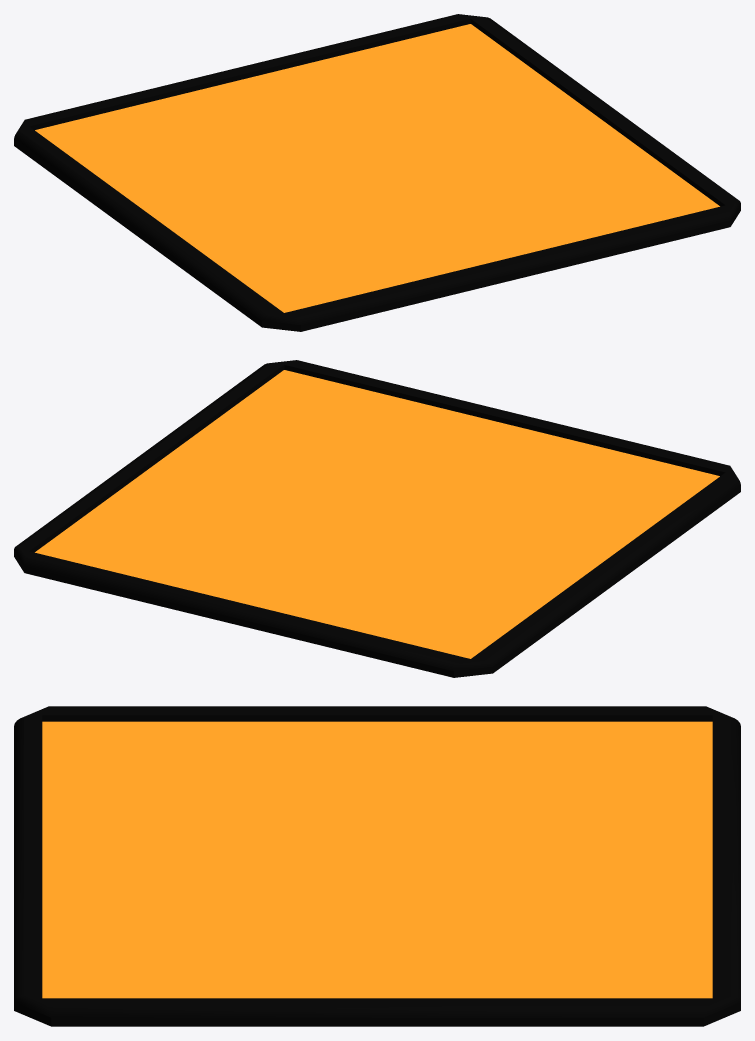
Rendered from Plate.fbx.
The picture shows the model from 3 angles, top to bottom: view 1: azimuth 30°, elevation 25°; view 2: azimuth 150°, elevation 25°; view 3: azimuth 270°, elevation 25°; orthographic projection. The views are drawn at different scales.
Visible parts, largest first — view 1: Plate; view 2: Plate; view 3: Plate.
Part boxes in pixels (x1,y1,x2,y2): Plate: (14, 14, 740, 331); Plate: (14, 360, 740, 677); Plate: (14, 706, 740, 1026).
Bounding box in the file's own units: 1815 × 45.02 × 1815.
